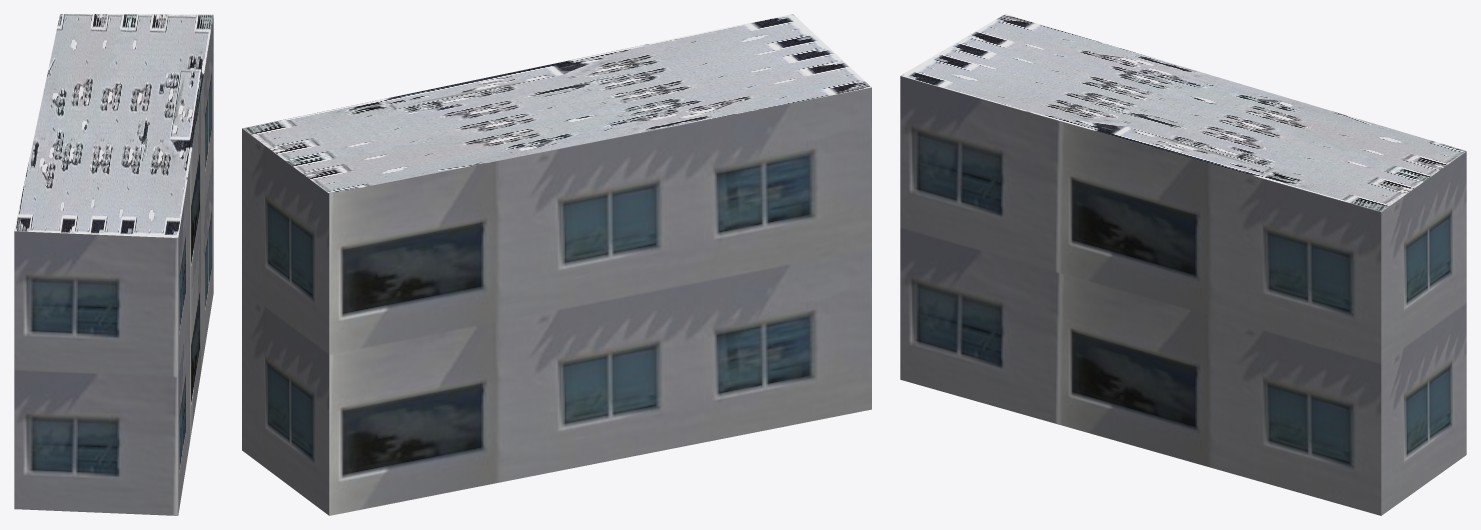
The model's file is ResTex__5103.fbx.
3 renders of one model, left to right at view 1: azimuth 30°, elevation 25°; view 2: azimuth 150°, elevation 25°; view 3: azimuth 270°, elevation 25°, orthographic. The views are drawn at different scales.
Parts seen in each view (by area): view 1: CityEngineMaterial_10_m, CityEngineMaterial_4_m; view 2: CityEngineMaterial_10_m, CityEngineMaterial_4_m; view 3: CityEngineMaterial_10_m, CityEngineMaterial_4_m.
Boxes of the visible parts, x1,y1,x2,y2 form: CityEngineMaterial_10_m: [14, 16, 213, 515]; CityEngineMaterial_4_m: [14, 14, 213, 237]; CityEngineMaterial_10_m: [242, 87, 871, 515]; CityEngineMaterial_4_m: [242, 14, 871, 193]; CityEngineMaterial_10_m: [900, 76, 1466, 515]; CityEngineMaterial_4_m: [900, 14, 1466, 211].
Size of the model in its own units: 8.4 by 6 by 10.14.
2 materials, 2 textured.
